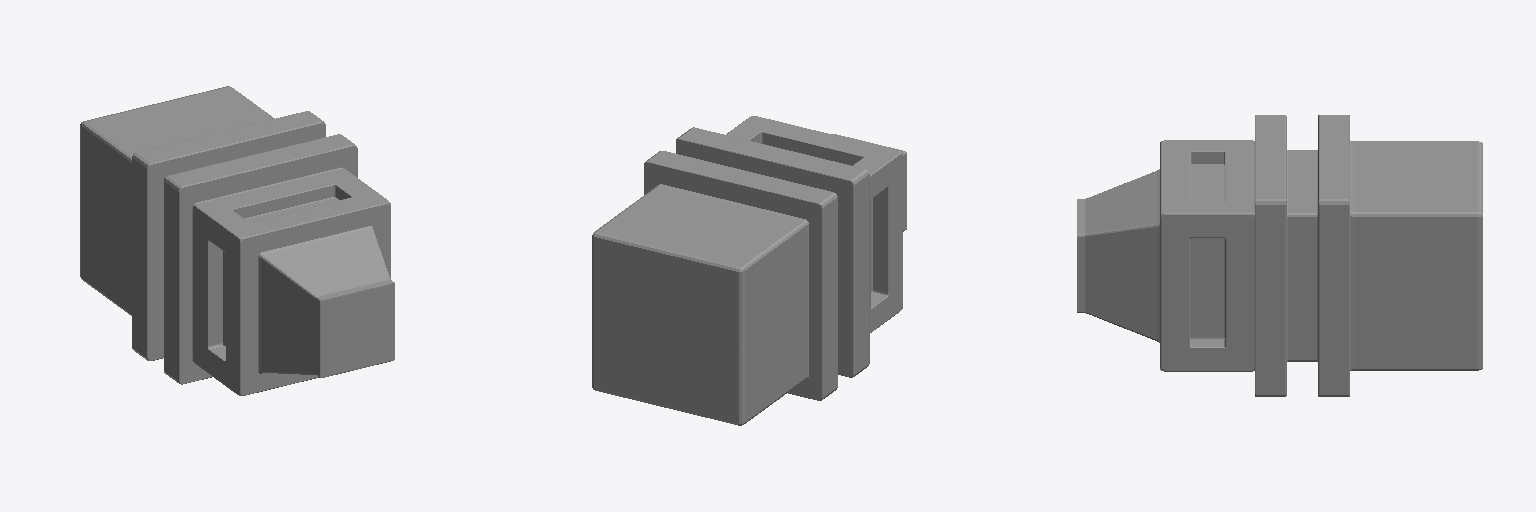
File: EngineTip02.obj
3 renders of one model, left to right at view 1: azimuth 30°, elevation 25°; view 2: azimuth 150°, elevation 25°; view 3: azimuth 270°, elevation 25°, orthographic.
Visible parts, largest first — view 1: EngineTip02_Cube.002; view 2: EngineTip02_Cube.002; view 3: EngineTip02_Cube.002.
Part boxes in pixels (x1,y1,x2,y2): EngineTip02_Cube.002: (80, 86, 394, 395); EngineTip02_Cube.002: (592, 116, 906, 425); EngineTip02_Cube.002: (1077, 115, 1482, 396).
Size of the model in its own units: 0.8767 by 0.9269 by 1.73.